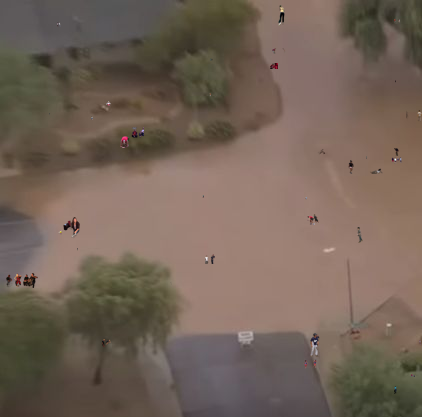Human: (58, 217, 80, 240), (120, 127, 144, 148), (348, 160, 383, 174), (6, 273, 38, 288), (310, 145, 331, 158), (310, 333, 320, 357), (406, 110, 422, 122), (278, 5, 285, 26), (303, 359, 317, 369), (307, 214, 319, 225), (356, 227, 363, 243), (205, 254, 215, 264), (48, 20, 62, 27), (272, 48, 286, 54), (391, 157, 402, 164), (102, 339, 111, 347), (270, 63, 278, 69), (394, 148, 399, 156), (106, 101, 111, 106), (394, 19, 400, 23), (394, 386, 397, 394), (210, 58, 214, 61), (411, 374, 415, 377), (419, 340, 421, 345), (170, 281, 172, 285), (91, 116, 93, 120), (209, 93, 211, 97), (202, 195, 204, 198), (305, 197, 307, 200), (77, 248, 78, 251), (395, 80, 396, 83), (366, 156, 367, 159), (49, 113, 50, 115)
